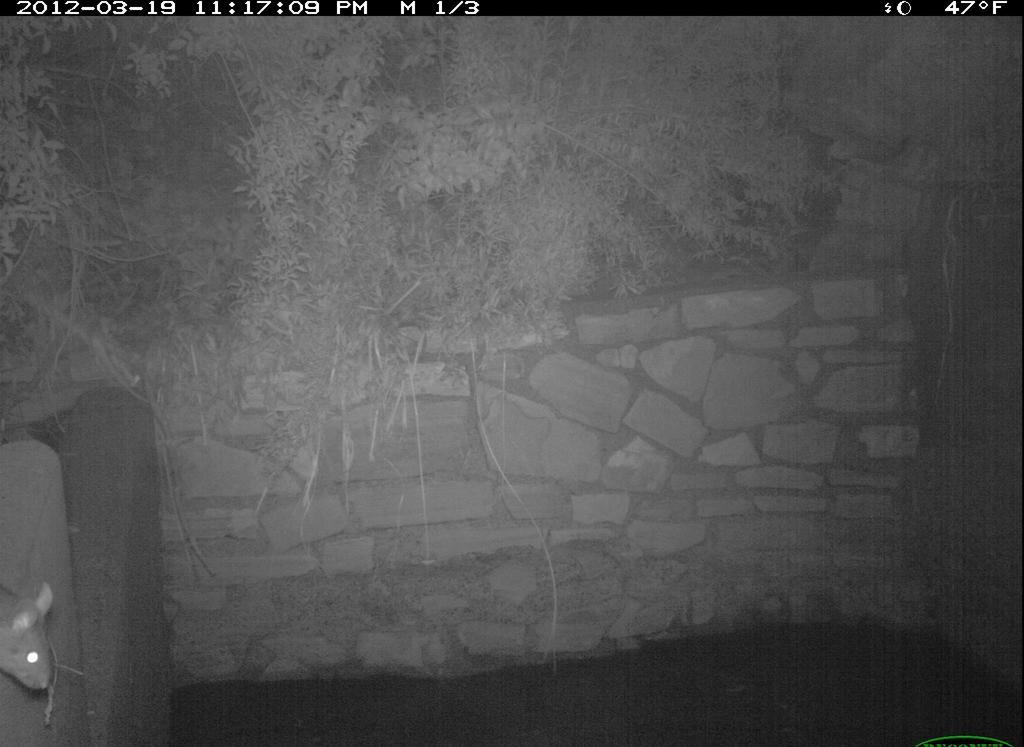rodent: (1, 574, 73, 697)
